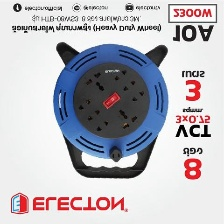three_eye_plug: (49, 41, 171, 165)
